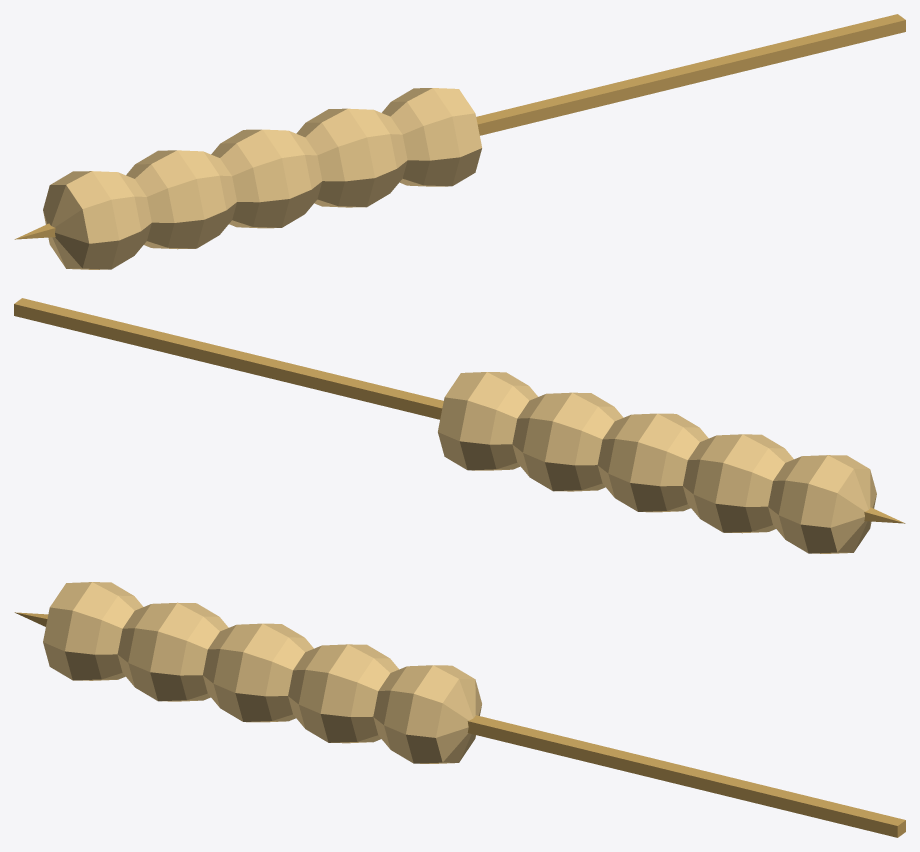
File: SM_Cook_SkewerFishball_Raw_01.fbx
3 renders of one model, top to bottom at view 1: azimuth 30°, elevation 25°; view 2: azimuth 150°, elevation 25°; view 3: azimuth 330°, elevation 25°, orthographic.
Visible parts, largest first — view 1: SM_Cook_SkewerFishball_Raw_01; view 2: SM_Cook_SkewerFishball_Raw_01; view 3: SM_Cook_SkewerFishball_Raw_01.
Part boxes in pixels (x1=…): SM_Cook_SkewerFishball_Raw_01: x1=14, y1=14, x2=905, y2=269; SM_Cook_SkewerFishball_Raw_01: x1=14, y1=298, x2=905, y2=553; SM_Cook_SkewerFishball_Raw_01: x1=14, y1=582, x2=905, y2=837.
Size of the model in its own units: 0.25 by 0.0266 by 0.0266.
1 material, 1 textured.
